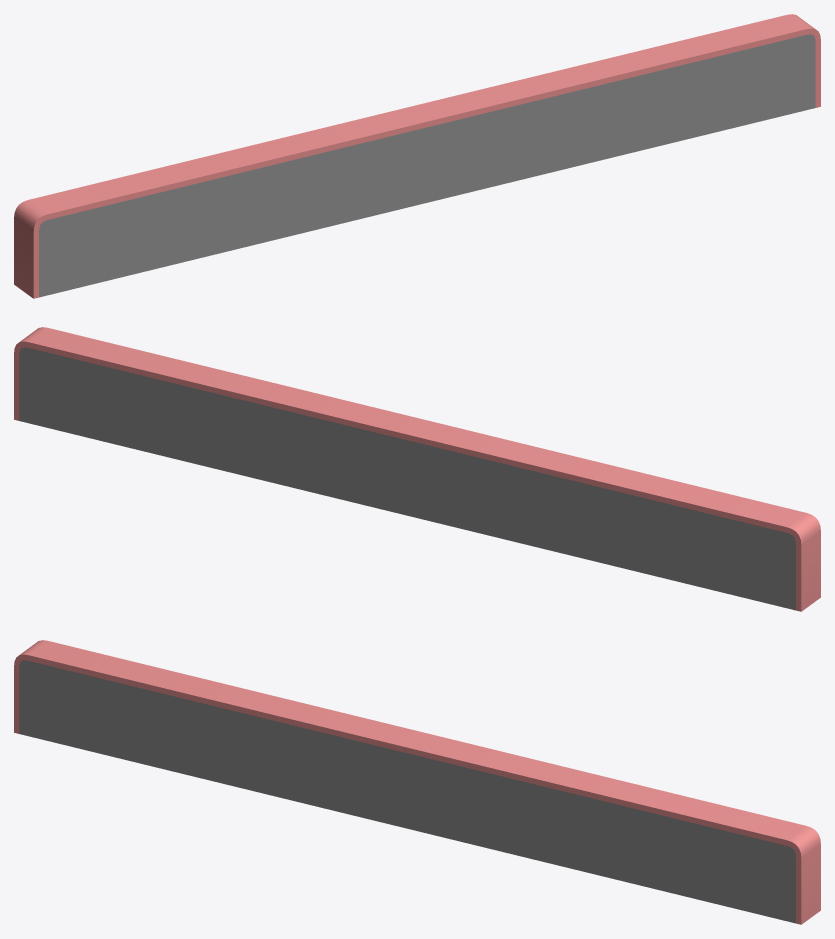
File: S_Envi_Umeda_Woodentable_01b.gltf
3 renders of one model, top to bottom at view 1: azimuth 30°, elevation 25°; view 2: azimuth 150°, elevation 25°; view 3: azimuth 330°, elevation 25°, orthographic.
Parts seen in each view (by area): view 1: S_Envi_Umeda_Woodentable_01b; view 2: S_Envi_Umeda_Woodentable_01b; view 3: S_Envi_Umeda_Woodentable_01b.
Boxes of the visible parts, <box> form: S_Envi_Umeda_Woodentable_01b: <box>14,14,820,298</box>; S_Envi_Umeda_Woodentable_01b: <box>14,327,820,611</box>; S_Envi_Umeda_Woodentable_01b: <box>14,640,820,924</box>.
Bounding box in the file's own units: 5.26 × 0.5173 × 0.2265.
